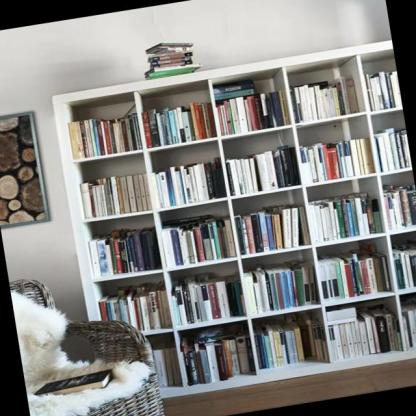Shelf: (45, 38, 416, 413)
